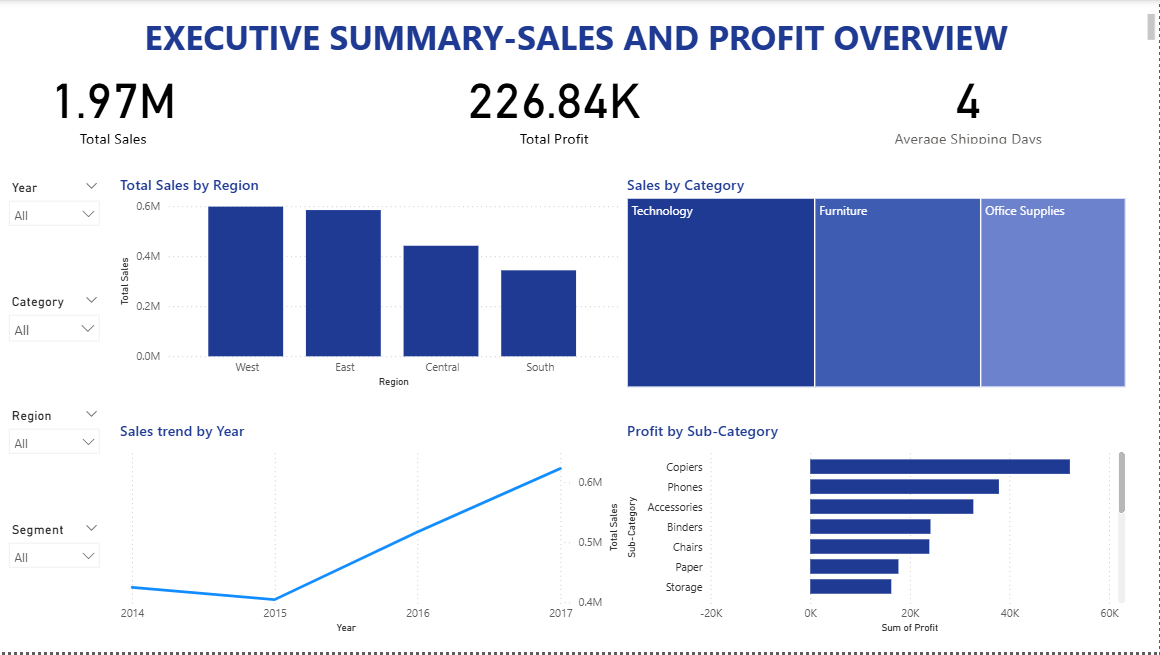

The dashboard page shown, as its layout file describes it:
{"tool":"powerbi","page":{"name":"Executive Summary","canvas":[1280,720],"ordinal":0},"visuals":[{"type":"card","fields":{"Values":["Orders.Total Sales"]},"box":[0,64,250,100],"z":0},{"type":"card","fields":{"Values":["Orders.Total Profit"]},"box":[487,64,250,100],"z":1000},{"type":"card","fields":{"Values":["Orders.Avgerage Shipping Days"]},"box":[944,64,250,100],"z":2000},{"type":"treemap","title":"Sales by Category","fields":{"Group":["Orders.Category"],"Values":["Orders.Total Sales"]},"box":[688,192,560,240],"z":3000},{"type":"clusteredBarChart","title":"Profit by Sub-Category","fields":{"Y":["Sum(Orders.Profit)"],"Category":["Orders.Sub-Category"]},"box":[688,464,560,240],"z":4000},{"type":"columnChart","fields":{"Category":["Orders.Region"],"Y":["Orders.Total Sales"]},"box":[128,192,560,240],"z":5000},{"type":"lineChart","title":" Sales trend by Year","fields":{"Category":["Orders.Order Date.Variation.Date Hierarchy.Year","Orders.Order Date.Variation.Date Hierarchy.Quarter","Orders.Order Date.Variation.Date Hierarchy.Month","Orders.Order Date.Variation.Date Hierarchy.Day"],"Y2":["Orders.Total Sales"]},"box":[128,464,560,240],"z":6000},{"type":"textbox","box":[0,0,1280,64],"z":7000},{"type":"slicer","fields":{"Values":["Orders.Order Date.Variation.Date Hierarchy.Year"]},"box":[0,194,120,80],"z":8000,"group":"g1"},{"type":"group","id":"g1","title":"Group 1","box":[0,194,120,458],"z":8000},{"type":"slicer","fields":{"Values":["Orders.Category"]},"box":[0,320,120,80],"z":9000,"group":"g1"},{"type":"slicer","fields":{"Values":["Orders.Region"]},"box":[0,446,120,80],"z":10000,"group":"g1"},{"type":"slicer","fields":{"Values":["Orders.Segment"]},"box":[0,572,120,80],"z":11000,"group":"g1"}]}

Visuals, with their boxes in screenshot pixels (x1, y1, x2, y2), scaled from the page's 1280x720 canvas onto the 1160x655 screenshot:
card - Orders.Total Sales: (0, 58, 227, 149)
card - Orders.Total Profit: (441, 58, 668, 149)
card - Orders.Avgerage Shipping Days: (856, 58, 1082, 149)
"Sales by Category" treemap: (624, 175, 1131, 393)
"Profit by Sub-Category" clusteredBarChart: (624, 422, 1131, 640)
columnChart - Orders.Region x Orders.Total Sales: (116, 175, 624, 393)
" Sales trend by Year" lineChart: (116, 422, 624, 640)
textbox: (0, 0, 1159, 58)
slicer - Orders.Order Date.Variation.Date Hierarchy.Year: (0, 176, 109, 249)
"Group 1" group: (0, 176, 109, 593)
slicer - Orders.Category: (0, 291, 109, 364)
slicer - Orders.Region: (0, 406, 109, 479)
slicer - Orders.Segment: (0, 520, 109, 593)
